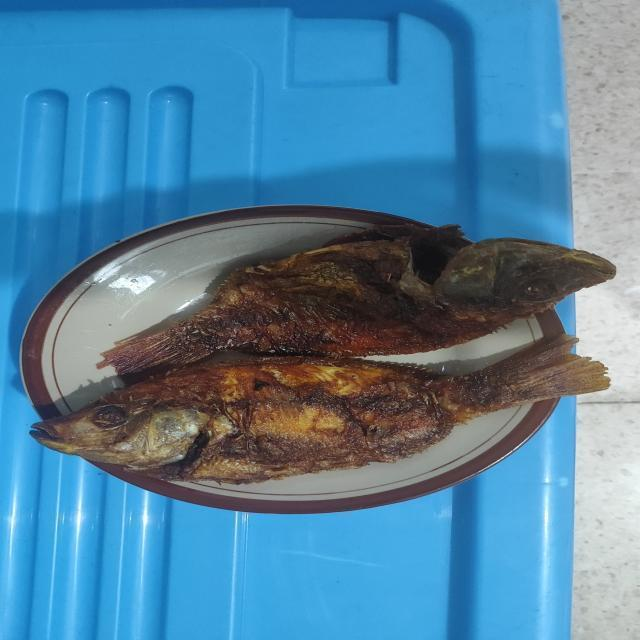ikan_mujair: (30, 334, 609, 485), (98, 224, 615, 384)
